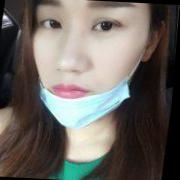WRONG: (22, 1, 151, 127)
